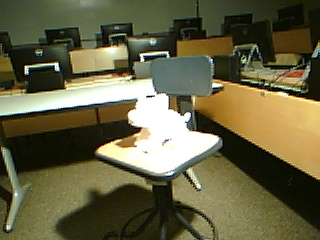piggy: (126, 90, 192, 154)
